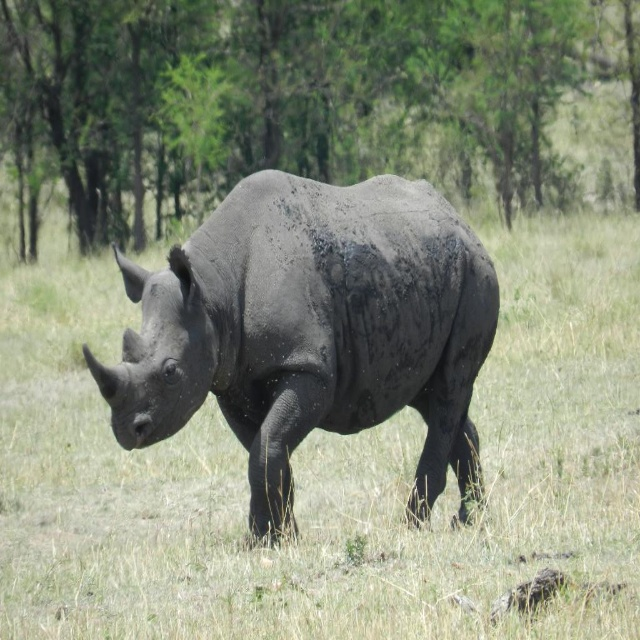Rhinoceros: (78, 162, 503, 556)
